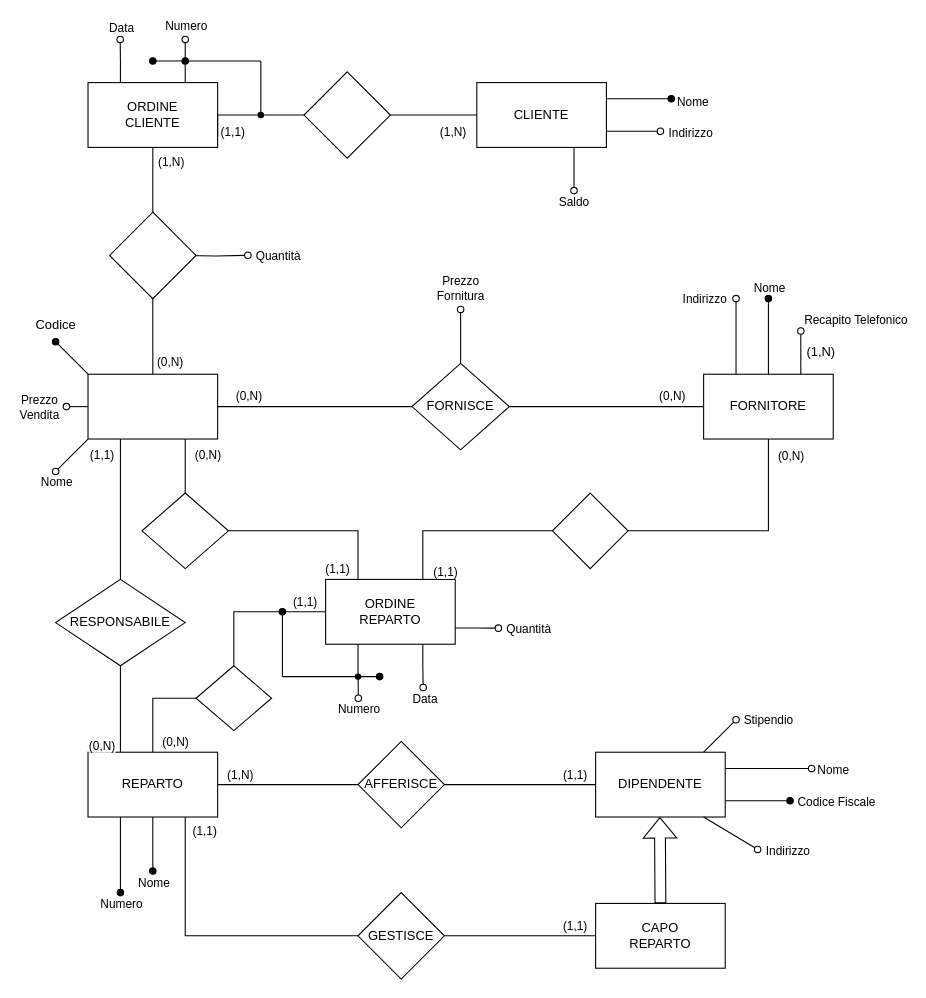
Some shapes in this 926 by 998 pixel diagram are drawn without their labels. Each missing label, with the box of its shape:
CHE COSA: (109, 211, 196, 299)
DA CHI: (551, 492, 628, 569)
DI COSA: (141, 492, 228, 569)
EFFETTUA: (303, 71, 390, 158)
EMETTE: (195, 665, 272, 731)
PRODOTTO: (87, 373, 218, 439)
